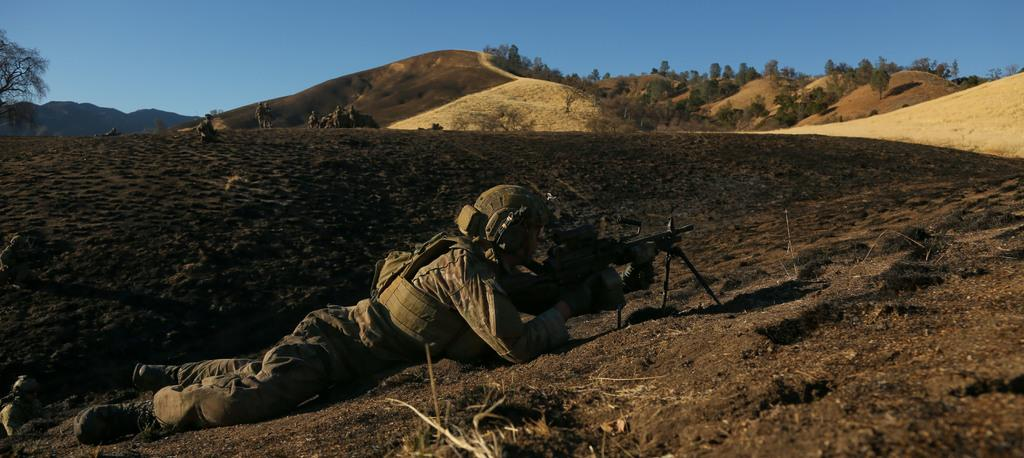Rifle: (506, 212, 723, 328)
